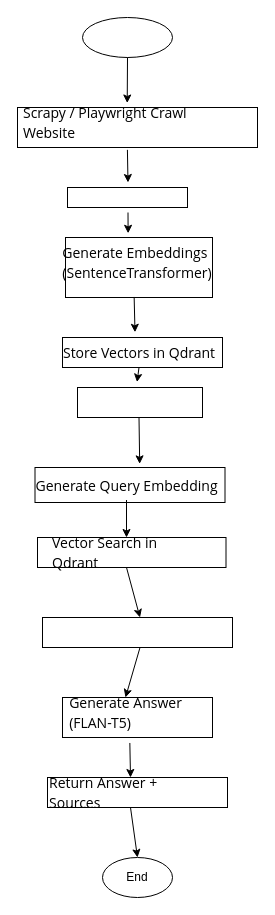
The diagram is 275 pixels wide and 915 high, and some of its shapes have lost their labels. Here are the shapes that lost their labels. From the top down, the centre of each, then its label:
At [127,37]: "Start".
At [127,197]: "Extract Content".
At [139,402]: "User Submits Query".
At [137,632]: "Retrieve Relevant Documents".
